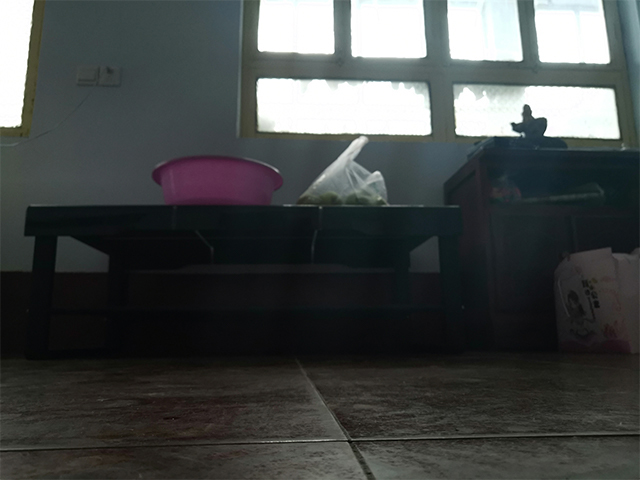cabinet: (439, 145, 640, 358)
table: (19, 201, 465, 363)
